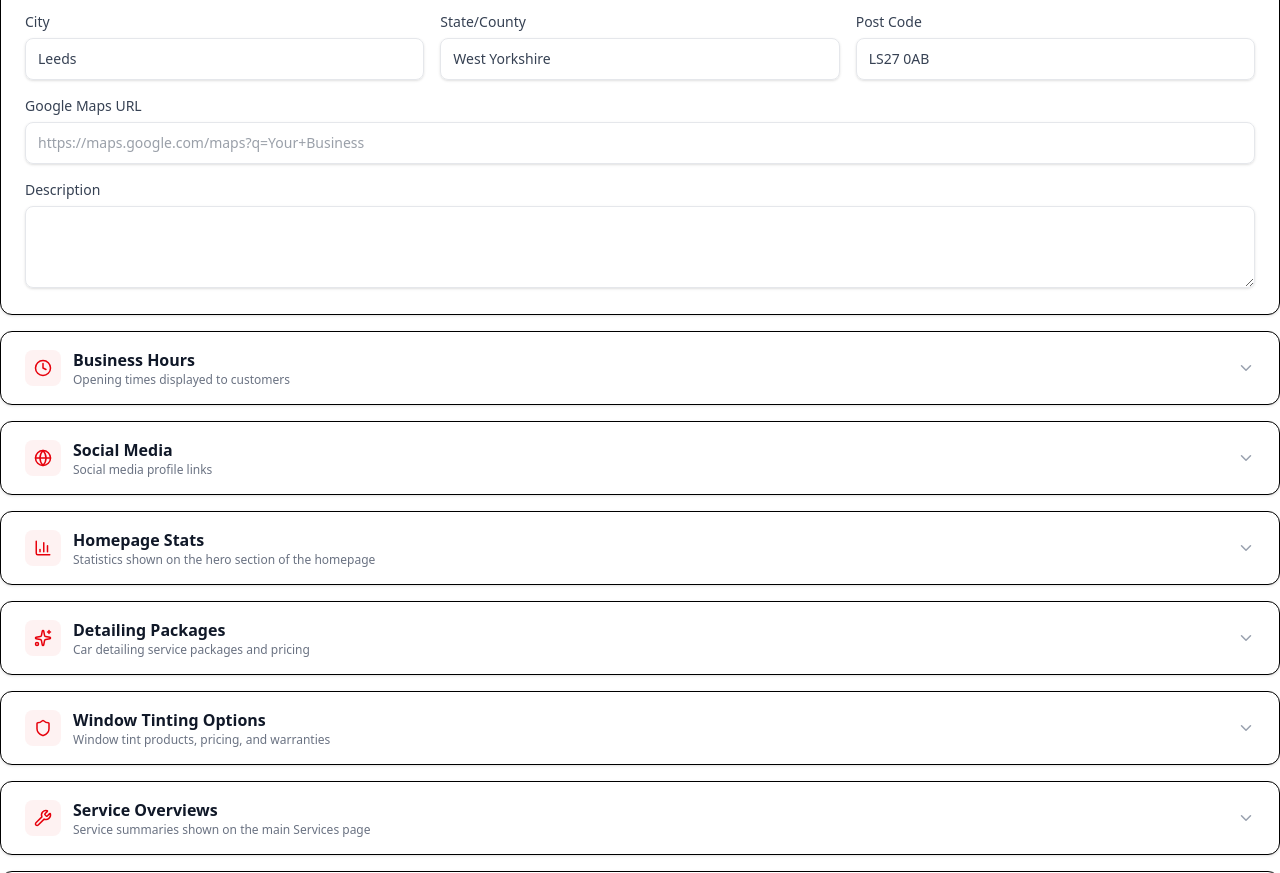
BusinessInfoForm Component › Section expand/collapse › expands Social Media when its header is clicked
(page scrolled)
Click the heading "Social Media": (123, 450) [73,439,173,461]
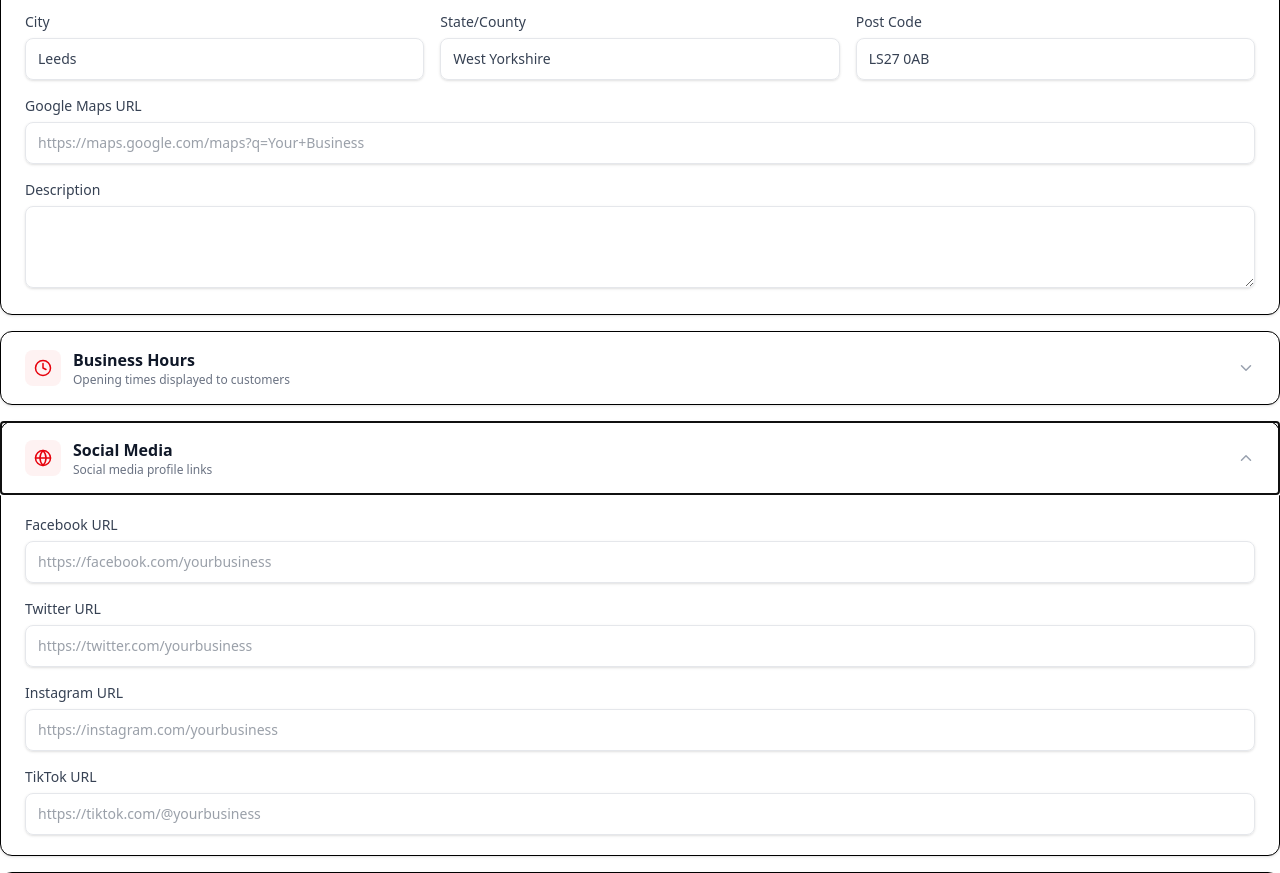
Expected: the field with placeholder "https://facebook.com/yourbusiness" is shown, [25,541,1255,583]
